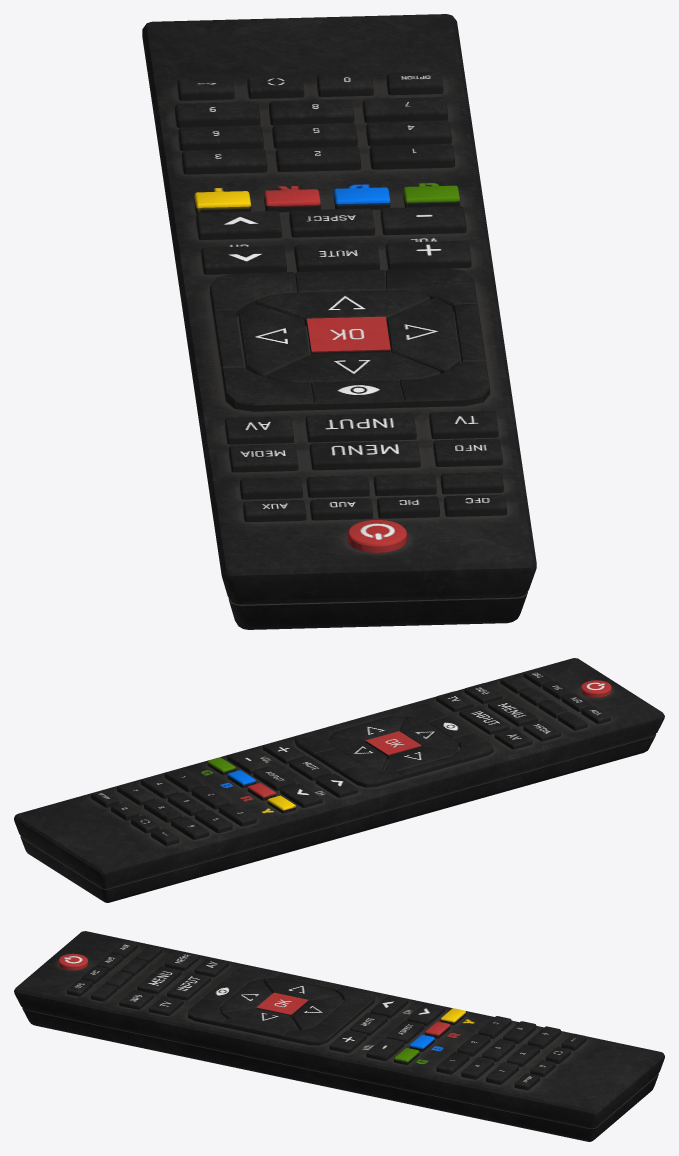
Rendered from Remote Control.fbx.
3 views of the same model, one above another, from view 1: azimuth 30°, elevation 25°; view 2: azimuth 150°, elevation 25°; view 3: azimuth 270°, elevation 25° (orthographic). The views are drawn at different scales.
Visible parts, largest first — view 1: Remote Control; view 2: Remote Control; view 3: Remote Control.
Part boxes in pixels (<box>): Remote Control: <box>142,14,536,629</box>; Remote Control: <box>14,658,664,902</box>; Remote Control: <box>14,931,664,1141</box>.
Size of the model in its own units: 0.1346 by 0.0151 by 0.2046.
